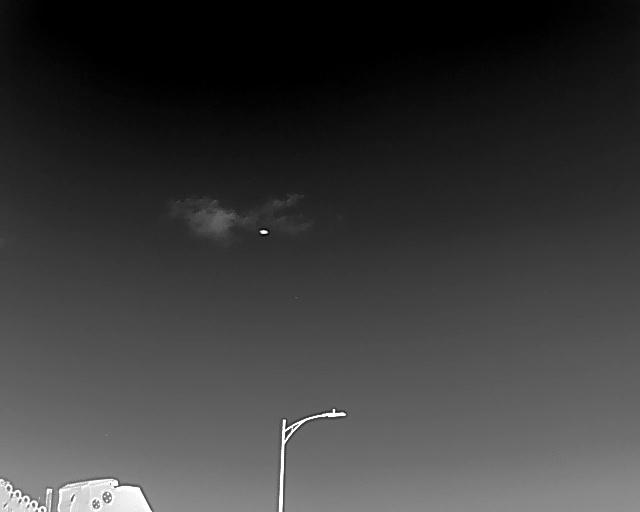fpv-drone: (258, 227, 269, 236)
